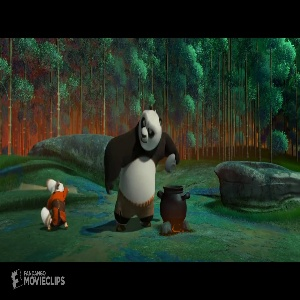po: (101, 104, 181, 232)
shifu: (36, 178, 71, 230)
